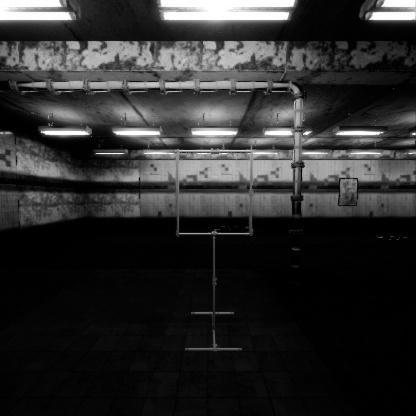gate: (176, 179, 260, 266)
